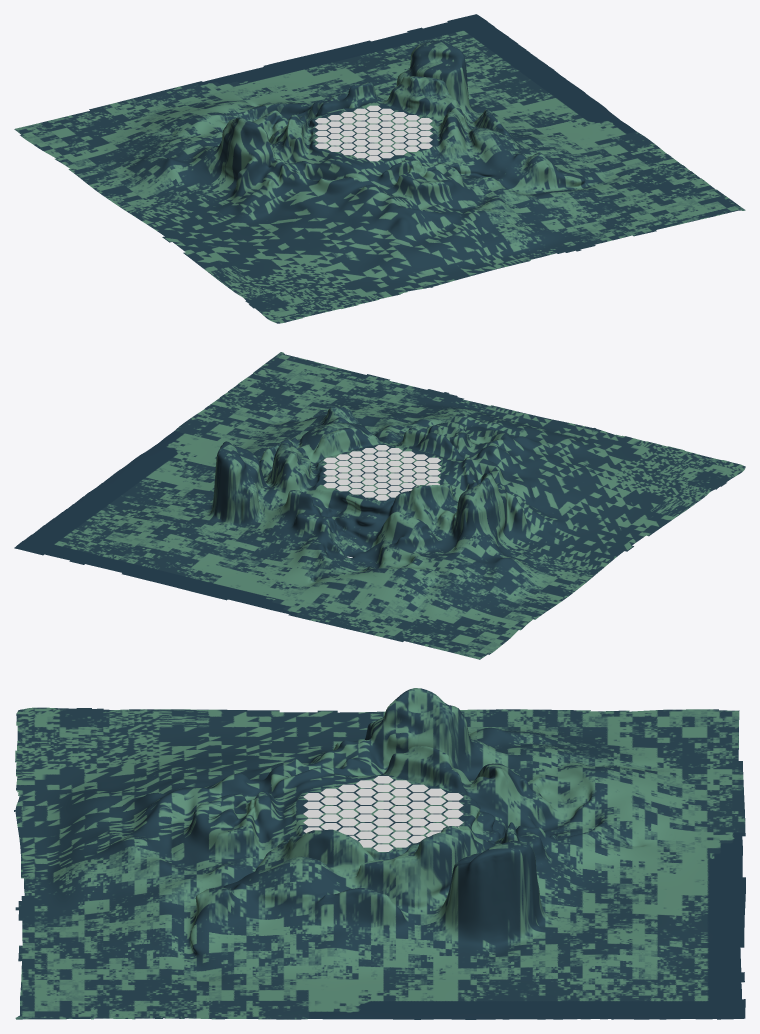
File: island new.fbx
3 views of the same model, one above another, from view 1: azimuth 30°, elevation 25°; view 2: azimuth 150°, elevation 25°; view 3: azimuth 270°, elevation 25° (orthographic). The views are drawn at different scales.
Visible parts, largest first — view 1: Retopo_island.001, sidewalks; view 2: Retopo_island.001, sidewalks; view 3: Retopo_island.001, sidewalks.
Part boxes in pixels (x1=…): Retopo_island.001: x1=14, y1=14, x2=745, y2=323; sidewalks: x1=315, y1=105, x2=432, y2=161; Retopo_island.001: x1=14, y1=352, x2=745, y2=659; sidewalks: x1=323, y1=445, x2=440, y2=500; Retopo_island.001: x1=14, y1=688, x2=745, y2=1019; sidewalks: x1=303, y1=776, x2=463, y2=851.
Size of the model in its own units: 286 by 41.94 by 283.
